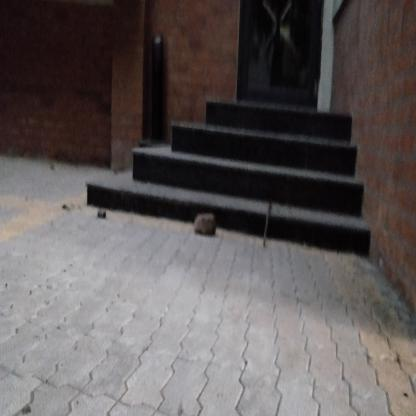stairs: (181, 124, 342, 263)
